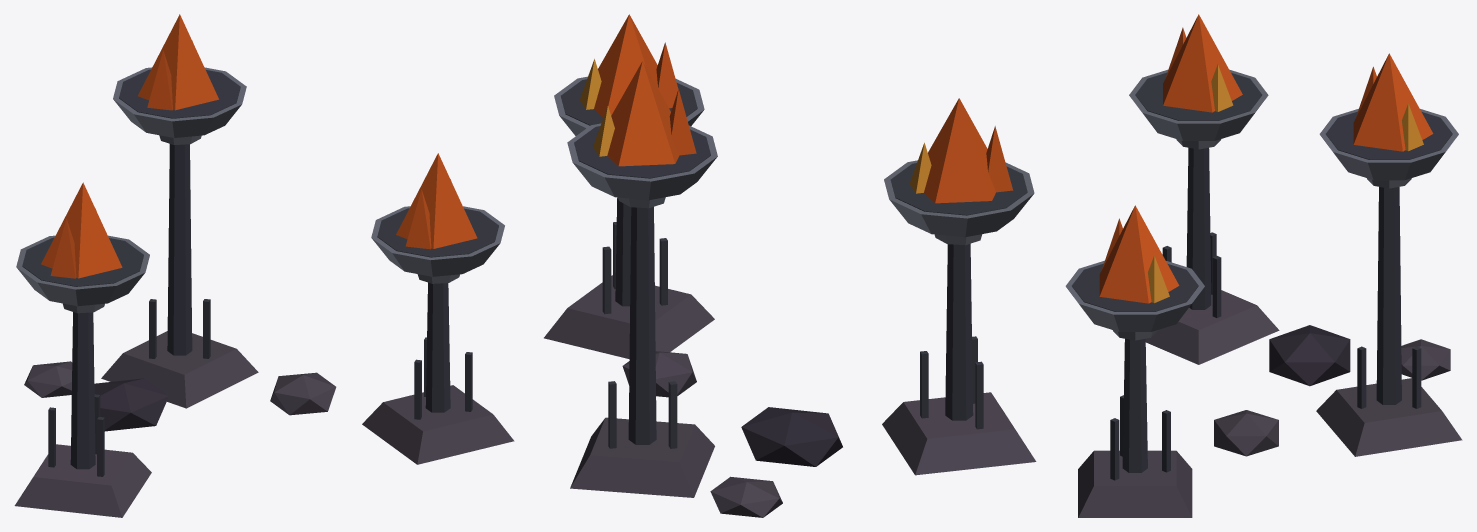
File: Decor_DragonLair_Braziers.fbx
3 views of the same model, side by side, from view 1: azimuth 30°, elevation 25°; view 2: azimuth 150°, elevation 25°; view 3: azimuth 270°, elevation 25° (orthographic). The views are drawn at different scales.
Visible parts, largest first — view 1: Braziers_Body; view 2: Braziers_Body; view 3: Braziers_Body.
Part boxes in pixels (box(x1,y1,x2,y2)): Braziers_Body: box(14, 14, 514, 517); Braziers_Body: box(544, 14, 1036, 517); Braziers_Body: box(1065, 14, 1462, 517).
Bounding box in the file's own units: 16.4 × 12.7 × 12.18.
